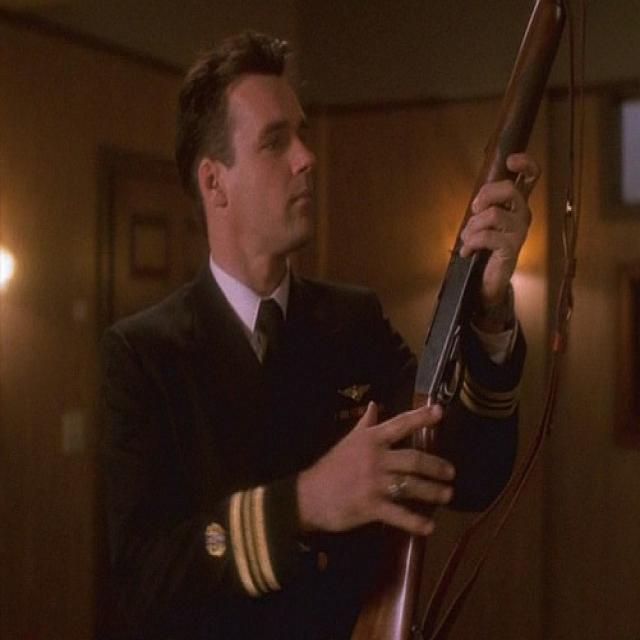rifle: (340, 1, 576, 640)
